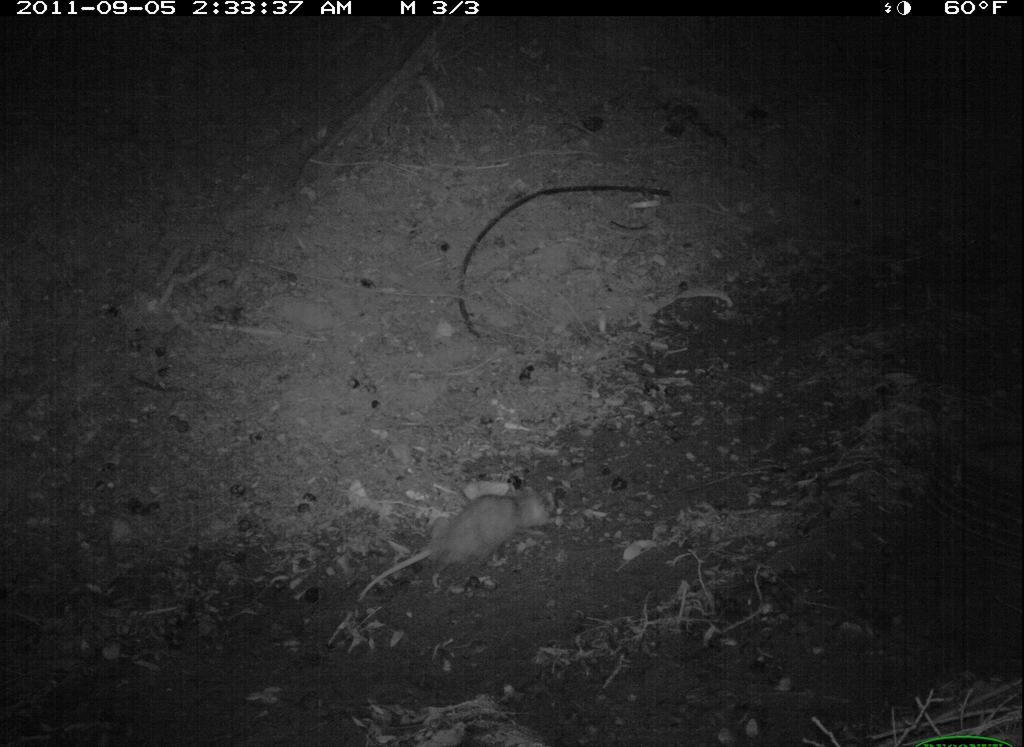opossum: (363, 470, 583, 616)
